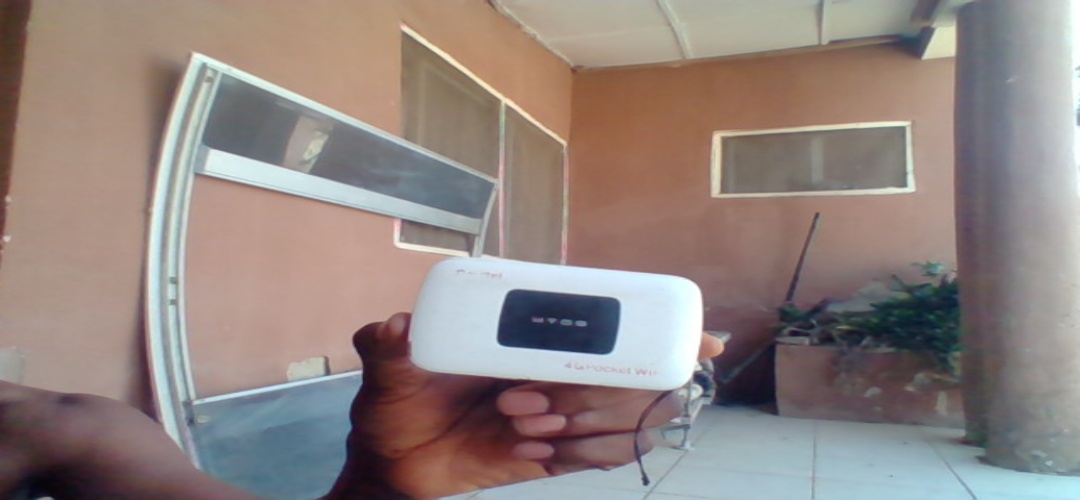mifi: (410, 253, 704, 395)
